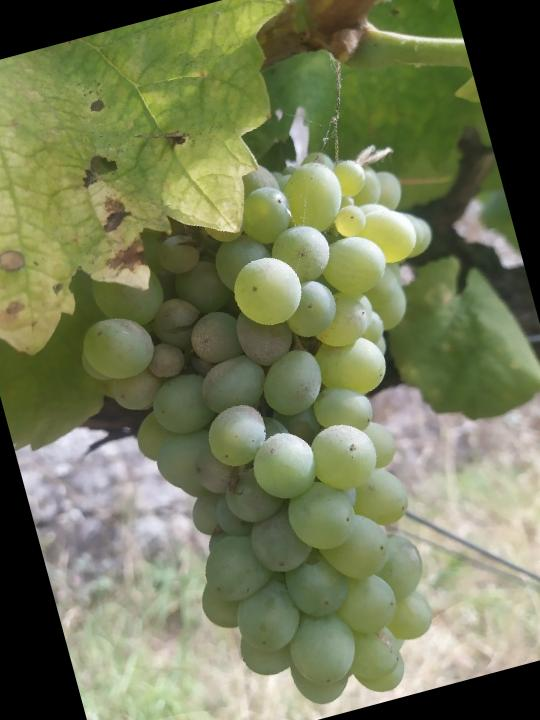grape: (45, 122, 540, 720)
